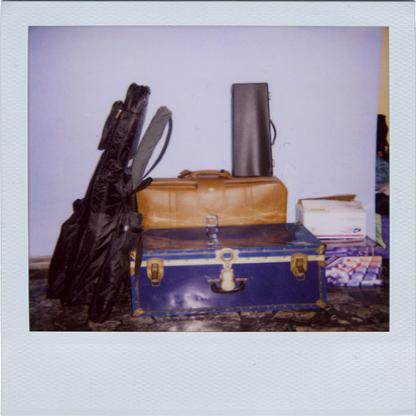suitcase: (133, 222, 327, 316), (139, 169, 287, 225)
